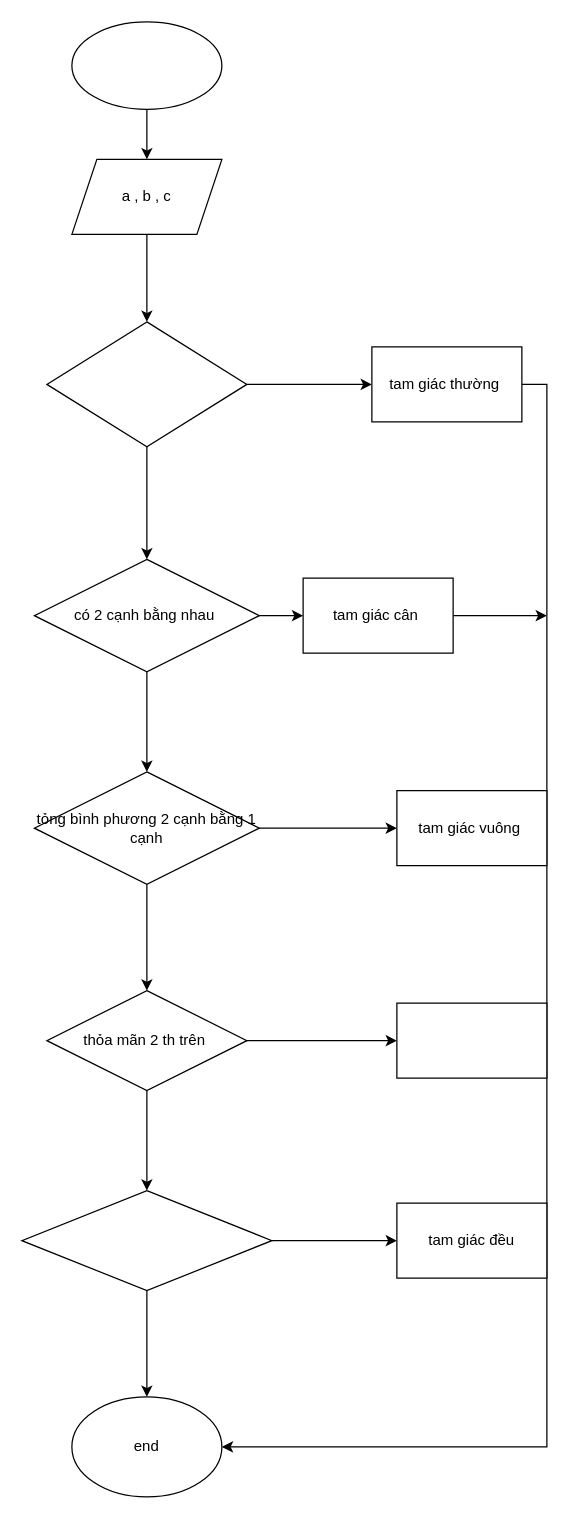
The diagram is 579 pixels wide and 1519 high, and some of its shapes have lost their labels. Here are the shapes that lost their labels. From the top down, the centre of each, then its label:
At [146,65]: "start".
At [146,384]: "nếu tổng của 2 số lớn hơn số thứ 3".
At [471,1040]: "tam giác vuông caan".
At [146,1240]: "3 cạnh bằng nhau".
